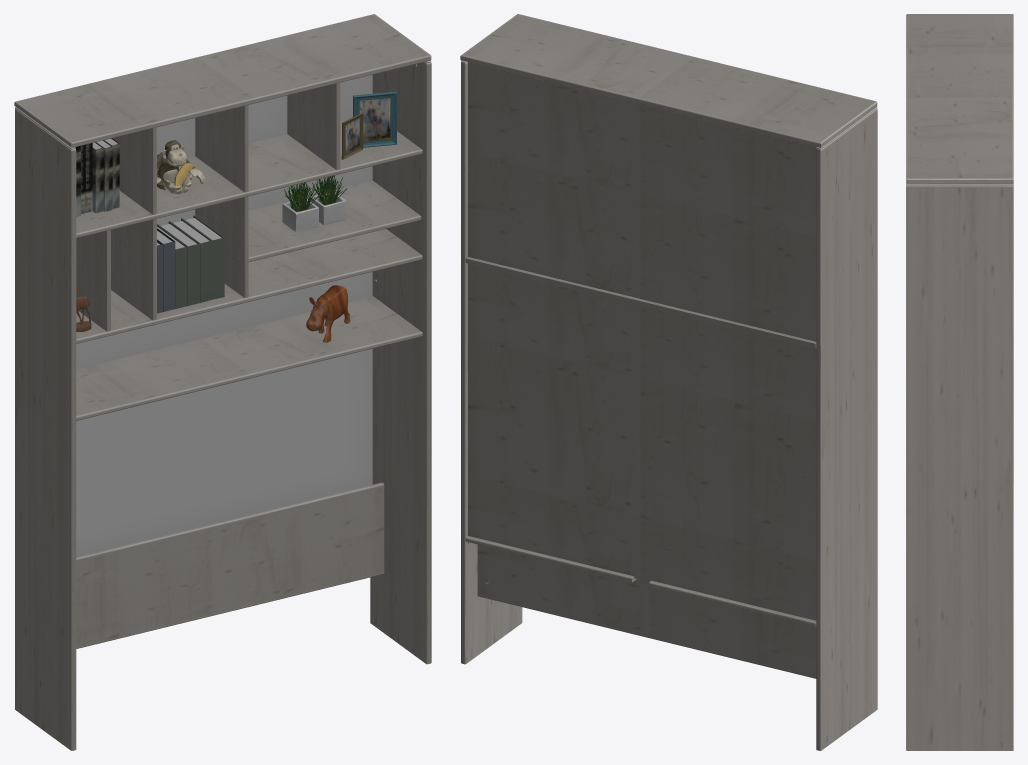
The model's file is shelf_book_shelf_7b05f8a8-b3a9-59d8-8627-026db57183d9.glb.
3 views of the same model, side by side, from view 1: azimuth 30°, elevation 25°; view 2: azimuth 150°, elevation 25°; view 3: azimuth 270°, elevation 25° (orthographic). The views are drawn at different scales.
Visible parts, largest first — view 1: raw_model.obj; view 2: raw_model.obj; view 3: raw_model.obj.
Part boxes in pixels (x1,y1,x2,y2): raw_model.obj: (14, 14, 431, 750); raw_model.obj: (460, 14, 877, 750); raw_model.obj: (906, 14, 1013, 750).
Bounding box in the file's own units: 1.26 × 2.03 × 0.345.
1 material, 1 textured.
